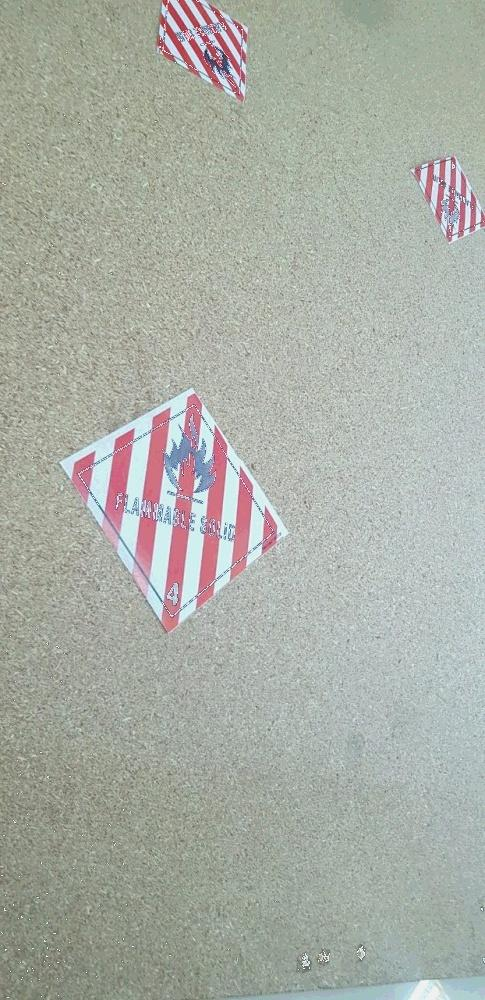flammable-solid: (60, 386, 290, 635), (156, 1, 248, 101), (409, 152, 484, 246)
